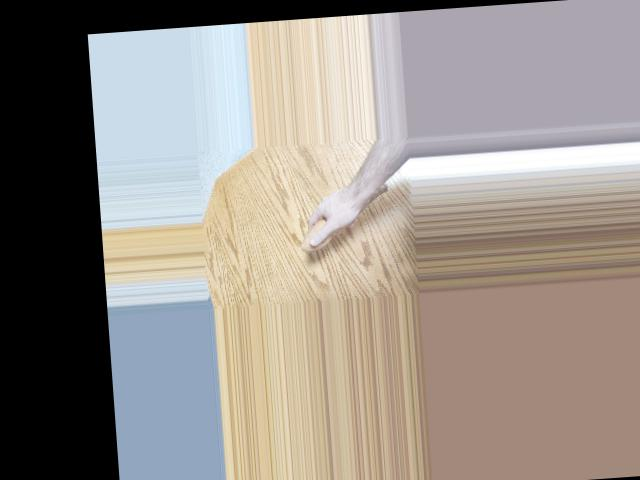sweet_potato: (297, 181, 394, 253)
